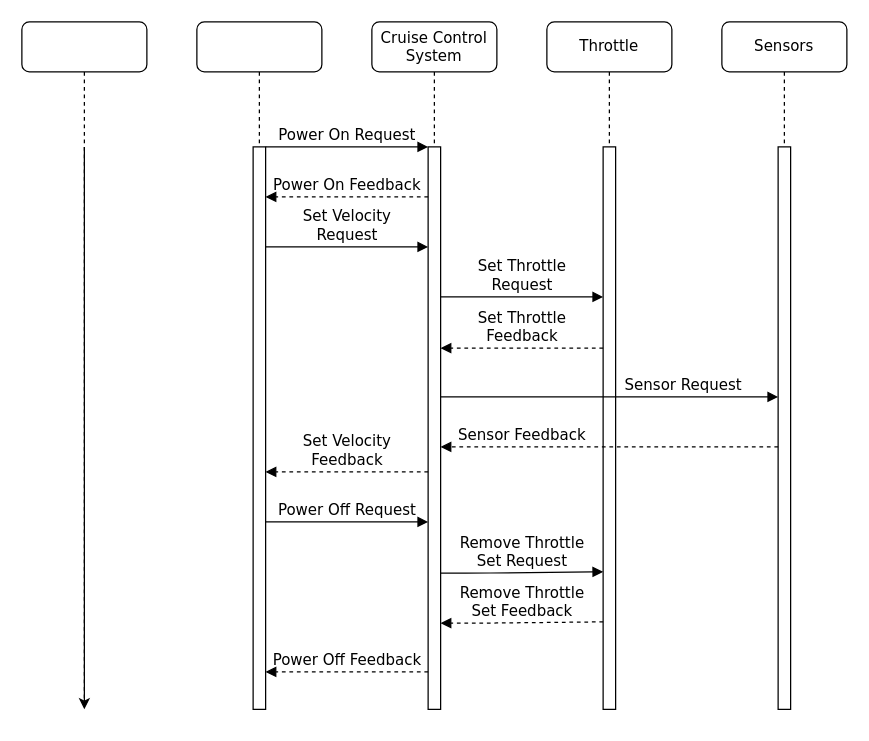
Some shapes in this 869 by 741 pixel diagram are drawn without their labels. Here are the shapes that lost their labels. From the top down, the box of each, then its label:
(21, 21, 147, 709): Time
(196, 21, 322, 709): User Input
